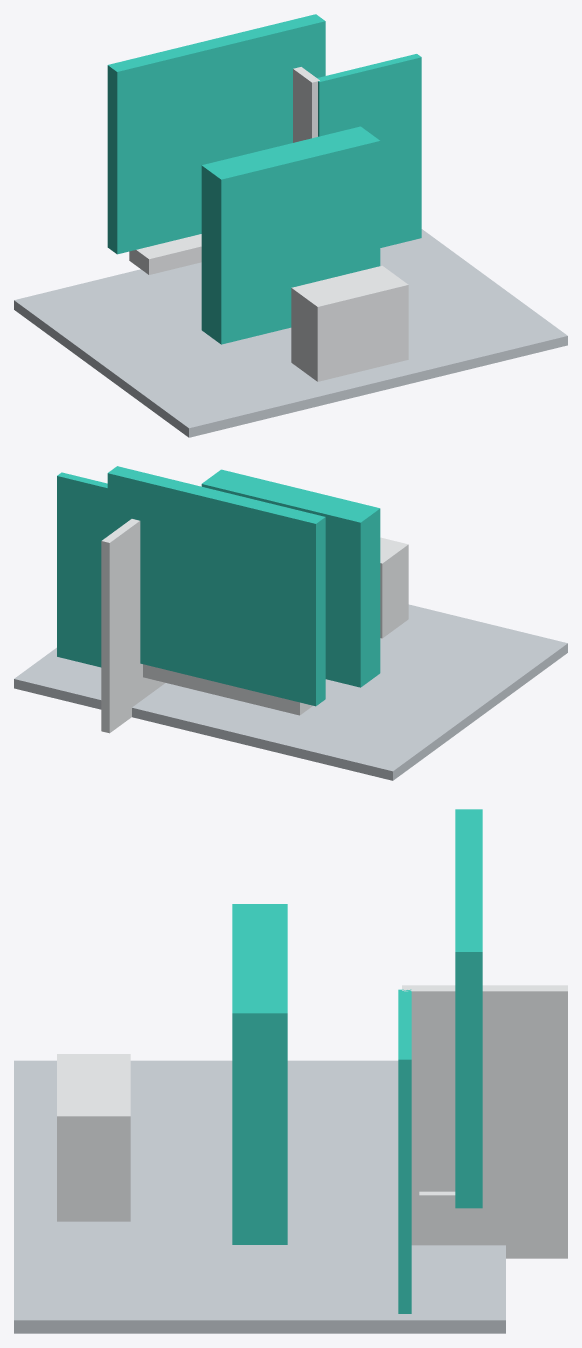
The picture shows the model from 3 angles, top to bottom: view 1: azimuth 30°, elevation 25°; view 2: azimuth 150°, elevation 25°; view 3: azimuth 270°, elevation 25°; orthographic projection. The views are drawn at different scales.
Parts seen in each view (by area): view 1: Exhibition Booth Concept; view 2: Exhibition Booth Concept; view 3: Exhibition Booth Concept.
Boxes of the visible parts, x1,y1,x2,y2 form: Exhibition Booth Concept: (14, 14, 567, 437); Exhibition Booth Concept: (14, 466, 567, 780); Exhibition Booth Concept: (14, 809, 567, 1333).
Size of the model in its own units: 5 by 2.9 by 4.51.
